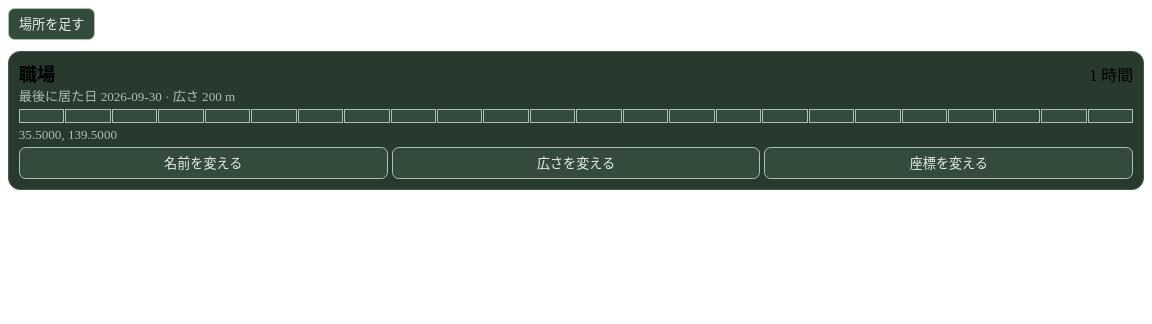
places-change: 名前を変える › 名前の記録を 1 件送り、受理されたら閉じて場所を読み直す
Click the button "名前を変える". click: (203, 163)
box: [19, 147, 388, 179]
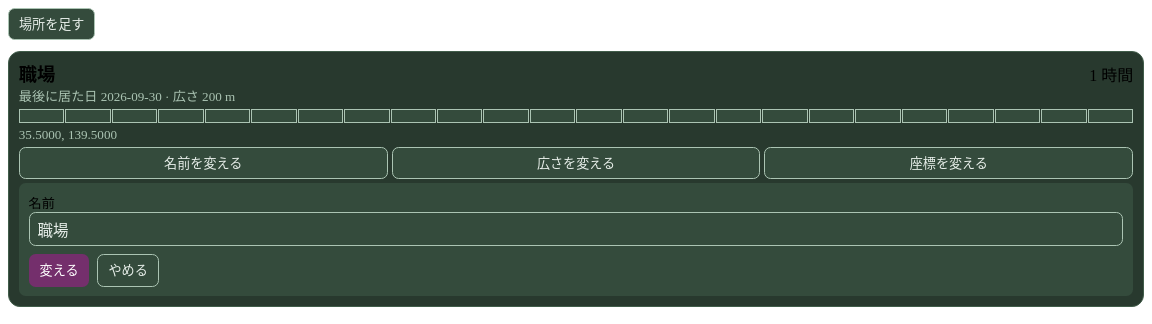
Replace the text in the field labelled "名前" with "本社". click: (576, 229)
box: [29, 212, 1123, 246]
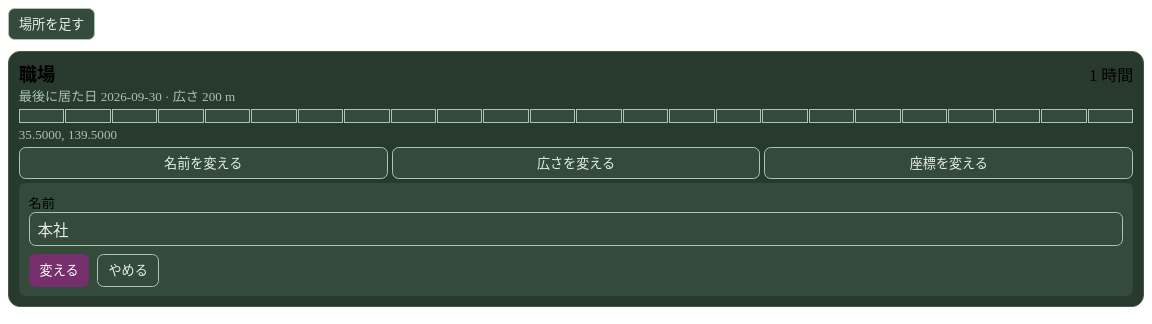
Click the button "変える". click: (59, 270)
box: [29, 254, 90, 287]
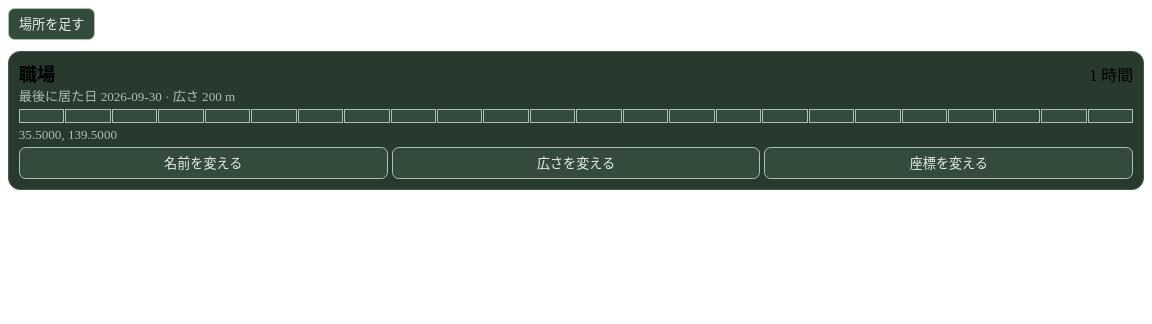
Check: the element with test id "place-change-form" is gone
